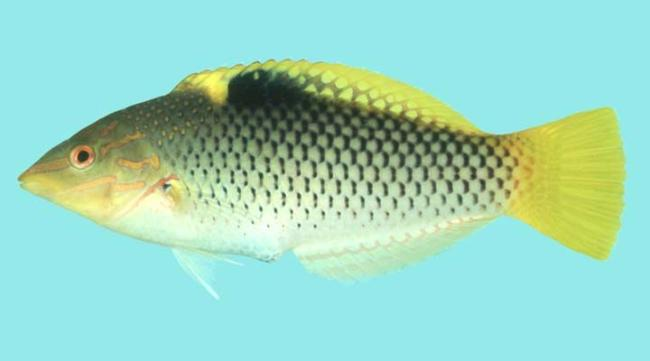fish: (18, 58, 627, 303)
